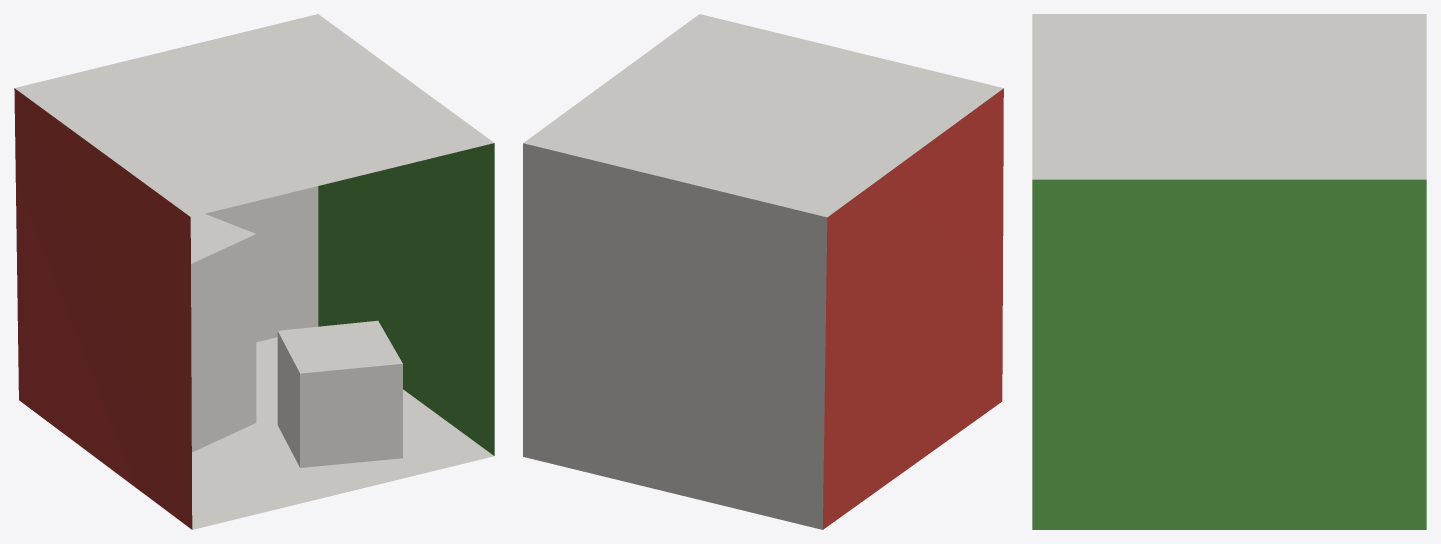
Rendered from cornell_box.glb.
3 renders of one model, left to right at view 1: azimuth 30°, elevation 25°; view 2: azimuth 150°, elevation 25°; view 3: azimuth 270°, elevation 25°, orthographic. The views are drawn at different scales.
Parts seen in each view (by area): view 1: Object_3, Object_1, Object_5, Object_2, Object_6, Object_7, Object_0; view 2: Object_0, Object_3, Object_1; view 3: Object_5, Object_1.
Part boxes in pixels (x1,y1,x2,y2): Object_3: (14,88,192,529); Object_1: (15,14,493,216); Object_5: (318,143,494,455); Object_2: (192,337,493,529); Object_6: (277,320,402,467); Object_7: (190,213,256,452); Object_0: (205,186,318,342); Object_0: (523,143,827,529); Object_3: (823,88,1003,529); Object_1: (523,14,1003,217); Object_5: (1032,179,1426,529); Object_1: (1032,14,1426,179).
Bounding box in the file's own units: 2.02 × 1.99 × 2.03.
